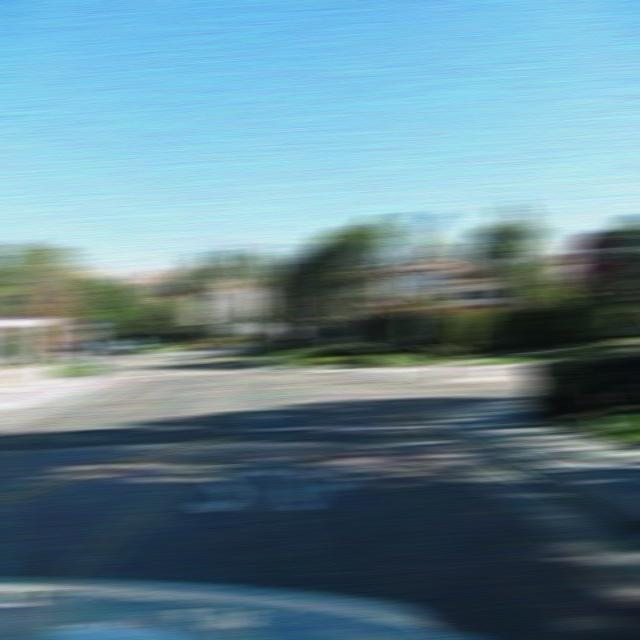stop: (569, 229, 620, 284)
